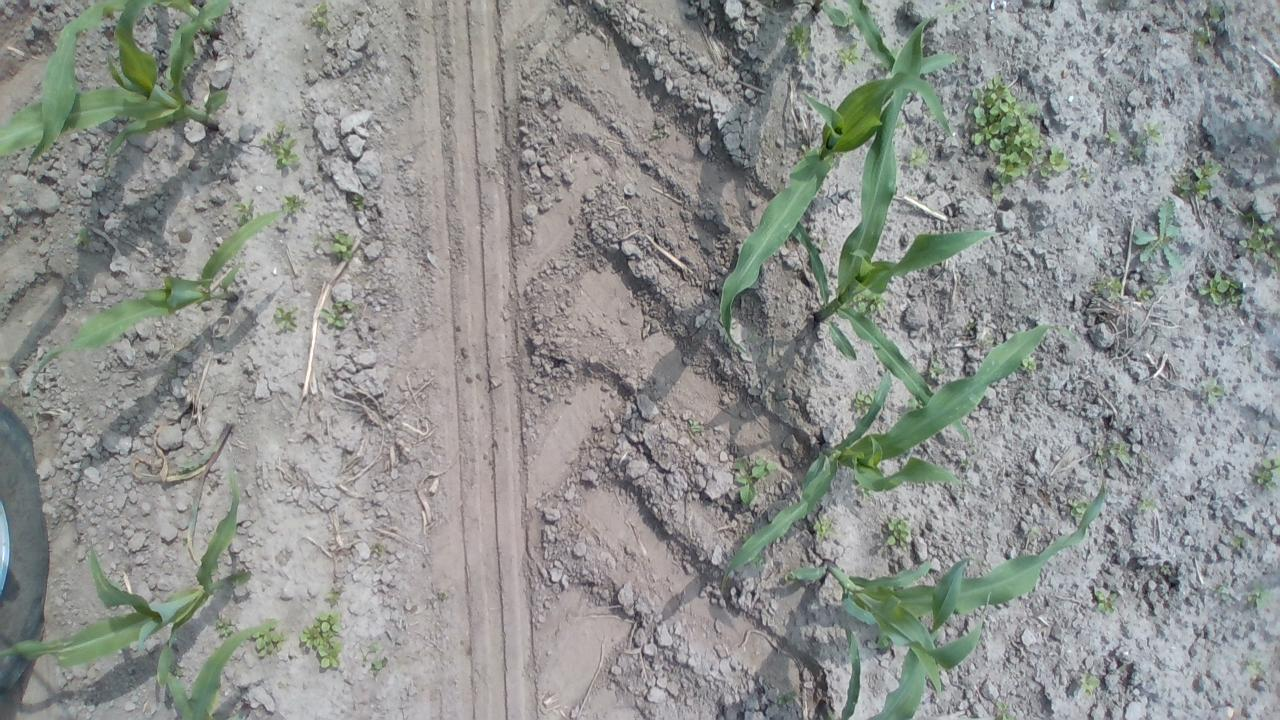Maize: (721, 322, 1078, 592), (790, 454, 1107, 720), (791, 3, 972, 440), (720, 52, 967, 354), (28, 208, 285, 430), (2, 467, 252, 687), (0, 0, 232, 170), (28, 0, 221, 166), (143, 420, 234, 566), (168, 624, 265, 720), (810, 0, 896, 73)
Weeds: (966, 72, 1072, 206), (1128, 192, 1184, 269), (1235, 207, 1280, 271), (299, 610, 342, 668), (732, 454, 776, 507), (1169, 154, 1224, 196), (258, 119, 300, 170), (1195, 267, 1242, 305), (250, 617, 288, 658), (881, 516, 917, 548), (320, 298, 354, 329), (786, 22, 812, 62), (1093, 440, 1132, 466), (1246, 578, 1272, 614), (270, 306, 302, 335), (1253, 456, 1280, 490), (1090, 273, 1124, 299), (1197, 377, 1225, 406), (814, 515, 844, 542), (1133, 121, 1166, 145), (332, 229, 356, 262), (835, 42, 862, 68), (856, 294, 886, 314), (906, 144, 931, 168), (283, 193, 309, 215), (1079, 669, 1100, 696), (310, 0, 330, 28), (1067, 496, 1091, 519), (233, 198, 254, 224), (1094, 590, 1118, 612), (366, 658, 392, 678), (1136, 492, 1158, 512), (215, 616, 235, 638), (1192, 27, 1210, 49), (854, 390, 875, 408), (995, 700, 1013, 720), (776, 690, 796, 708), (1134, 283, 1155, 300), (1124, 146, 1146, 162), (1206, 1, 1224, 20), (1104, 125, 1122, 143), (687, 417, 704, 436), (74, 227, 90, 247), (325, 586, 340, 607), (930, 359, 946, 378), (1153, 269, 1174, 283), (1075, 166, 1093, 182), (1217, 582, 1232, 601), (369, 542, 388, 556), (1269, 74, 1280, 96), (1244, 656, 1262, 669), (1022, 357, 1036, 371), (368, 640, 381, 655), (1232, 533, 1244, 549), (352, 194, 364, 210), (751, 556, 764, 570), (314, 232, 322, 250), (651, 128, 665, 138), (1160, 566, 1171, 578), (982, 335, 994, 346), (964, 322, 976, 332), (766, 0, 780, 8), (959, 458, 970, 468), (896, 118, 905, 130), (1242, 346, 1252, 356), (1092, 250, 1102, 259), (1027, 526, 1038, 534), (438, 592, 446, 600)
